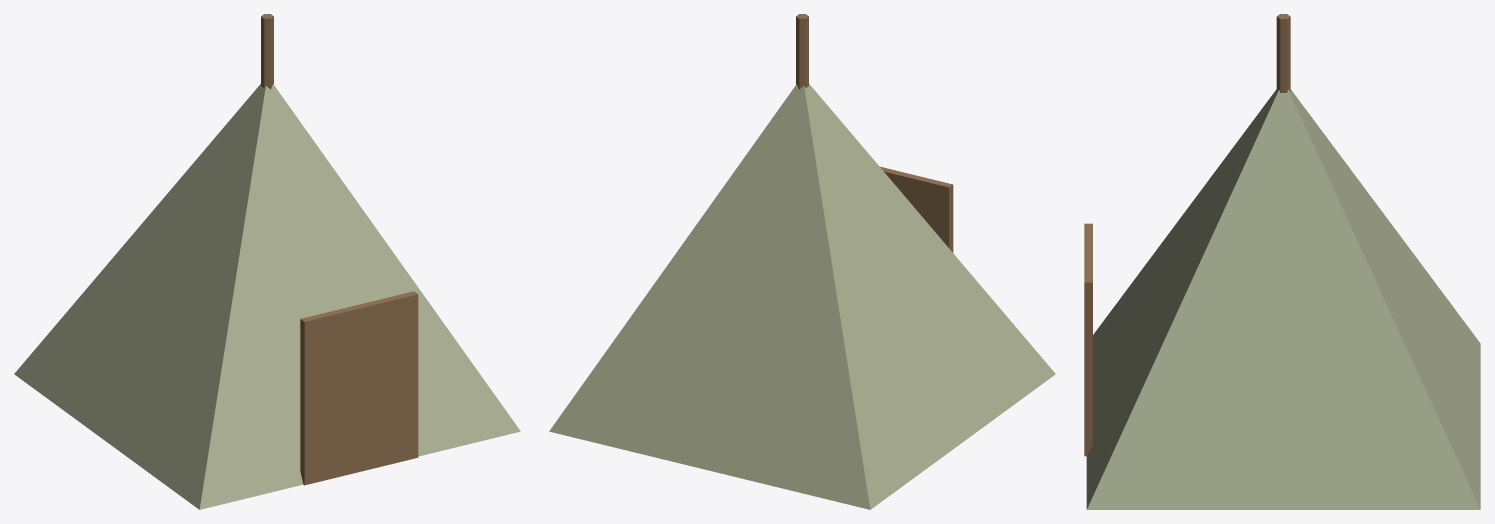
Rendered from Barraca.fbx.
3 renders of one model, left to right at view 1: azimuth 30°, elevation 25°; view 2: azimuth 150°, elevation 25°; view 3: azimuth 270°, elevation 25°, orthographic. The views are drawn at different scales.
Visible parts, largest first — view 1: Barraca; view 2: Barraca; view 3: Barraca.
Part boxes in pixels (x1,y1,x2,y2): Barraca: [14, 14, 520, 509]; Barraca: [549, 14, 1055, 509]; Barraca: [1084, 14, 1480, 509].
Size of the model in its own units: 2.26 by 2.6 by 2.28.
